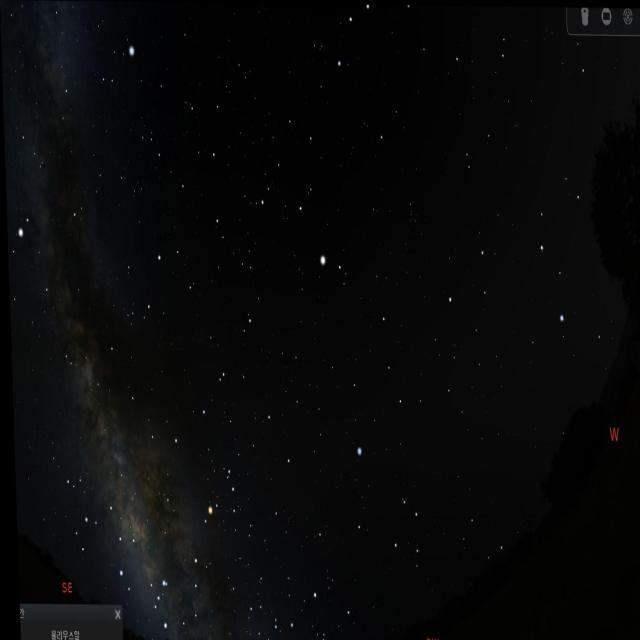aquila: (5, 208, 89, 379)
bootes: (264, 106, 360, 299)
leo: (433, 176, 592, 333)
lyra: (94, 29, 134, 91)
sagittarius: (52, 466, 144, 598)
scorpius: (141, 436, 247, 637)
